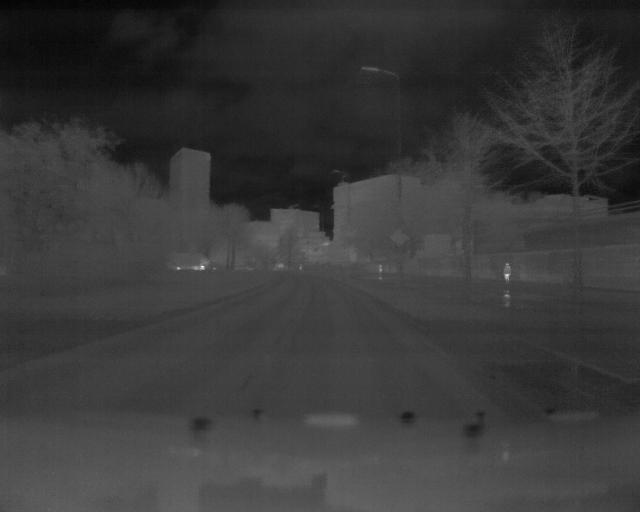car: (167, 245, 214, 274)
person: (499, 262, 513, 283)
